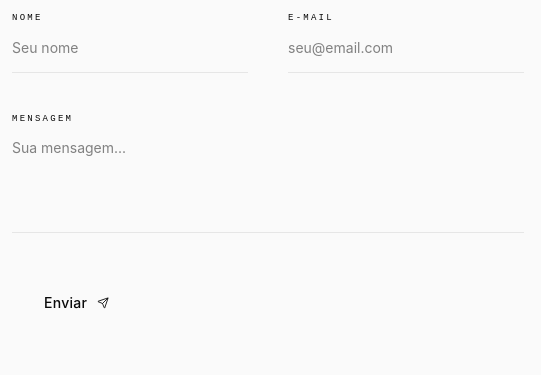
Scenario: ContactForm › blocks submission and shows an error when required fields are empty
The width and height of the screenshot is (541, 375).
Click the button "Enviar" at [77, 303], box [12,279,141,327]
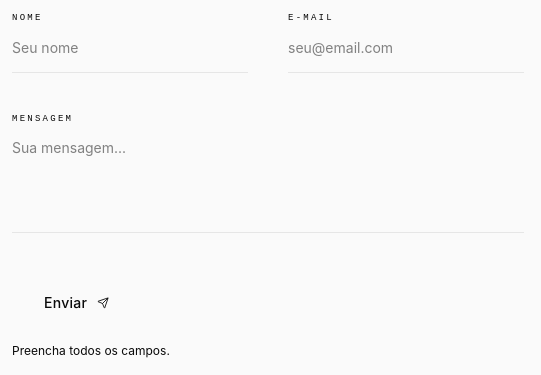
Expected: the text "Preencha todos os campos." is shown, [12,343,170,358]
